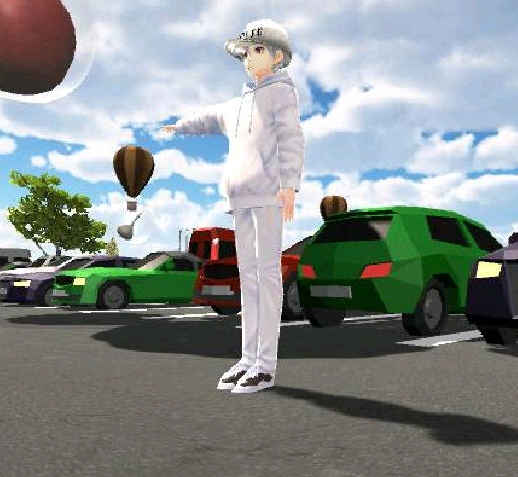singleP_left: (158, 11, 307, 404)
